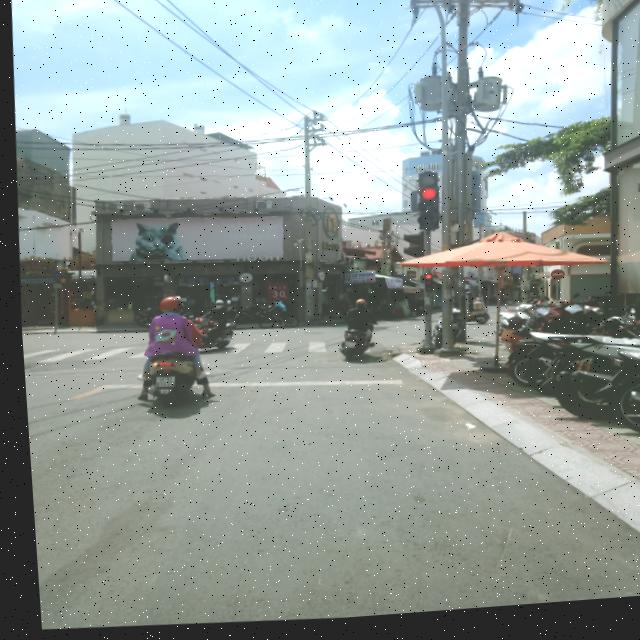Red: (409, 191, 440, 241), (417, 276, 432, 299)
